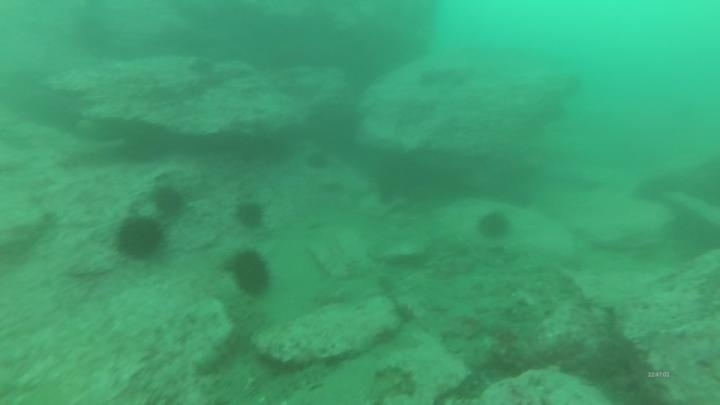echinus: (113, 213, 168, 263), (227, 248, 274, 299), (118, 128, 172, 167), (149, 182, 188, 219), (474, 209, 514, 243), (232, 198, 268, 232)
holothurian: (369, 360, 420, 403)
